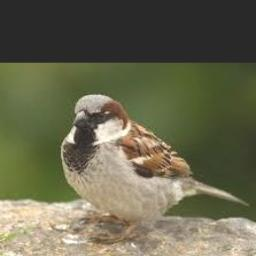Sparrow: (61, 94, 249, 245)
